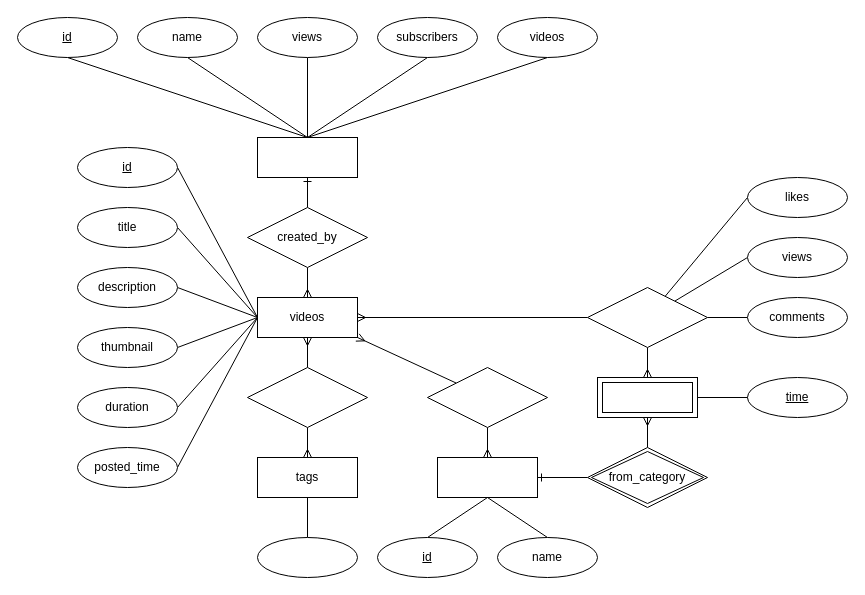
This 865x595 diagram has some shape labels left out. Here are the shapes that lost their labels. From the top down, the centre of each, then its label:
point (307, 157): channels
point (647, 317): access_info
point (307, 397): has_tag
point (487, 397): in_category
point (647, 397): queries
point (487, 477): categories
point (307, 557): tag
